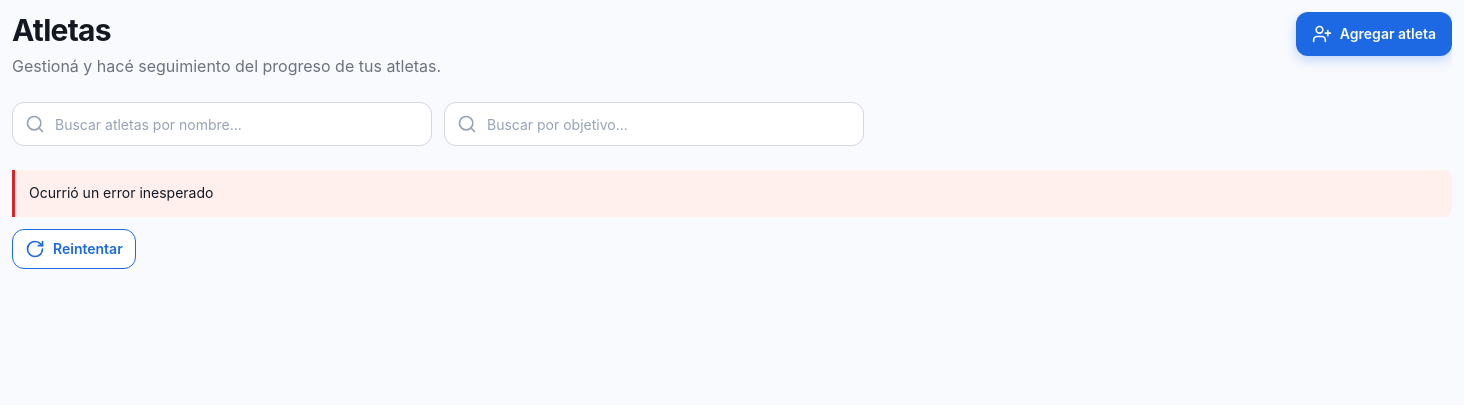
Test: AthletesPage › muestra el error y reintenta
The image size is (1464, 405).
Expected: the message reads "Ocurrió un error inesperado", [29, 184, 213, 201]
Click the button "Reintentar": point(74, 249) [12, 229, 136, 269]
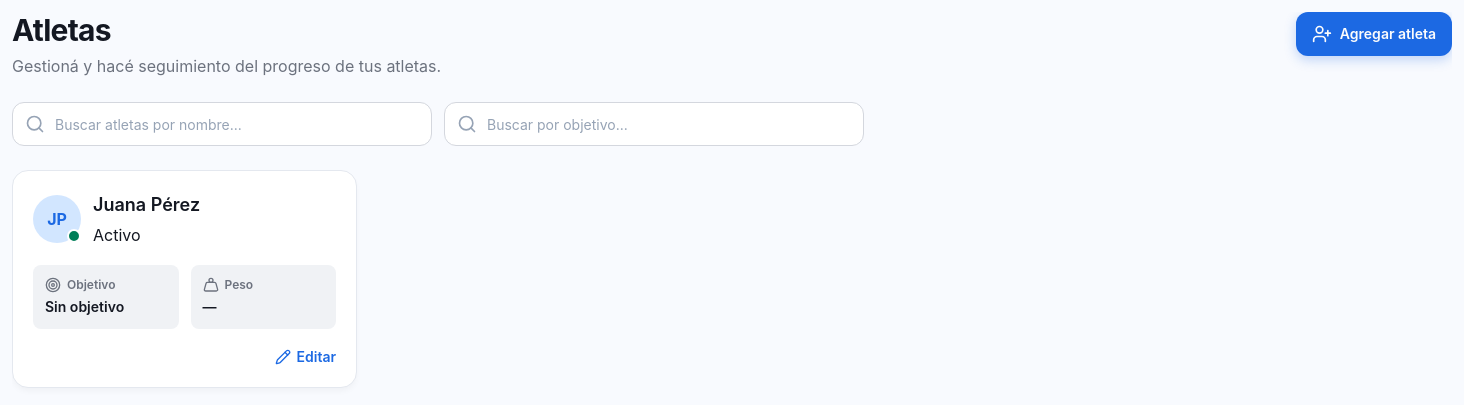
Expected: the element "Juana Pérez" is shown, [12, 170, 357, 388]
Expected: the message "Ocurrió un error inesperado" is gone
